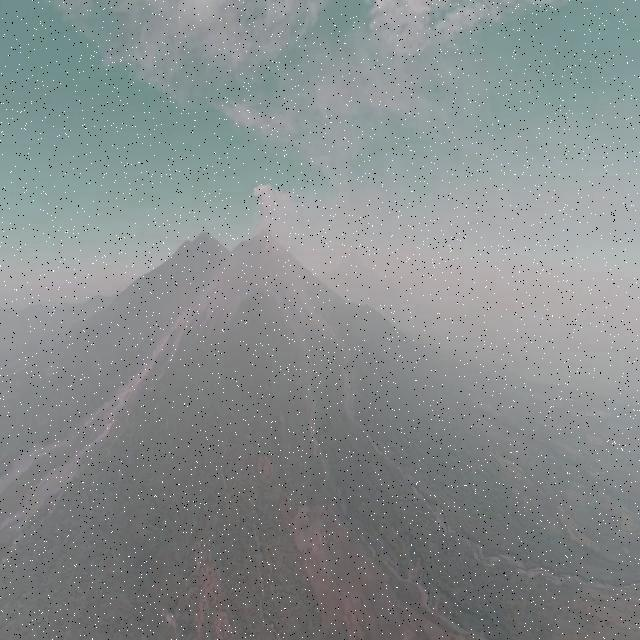Plume: (254, 180, 298, 232)
Summit: (254, 226, 281, 239)
